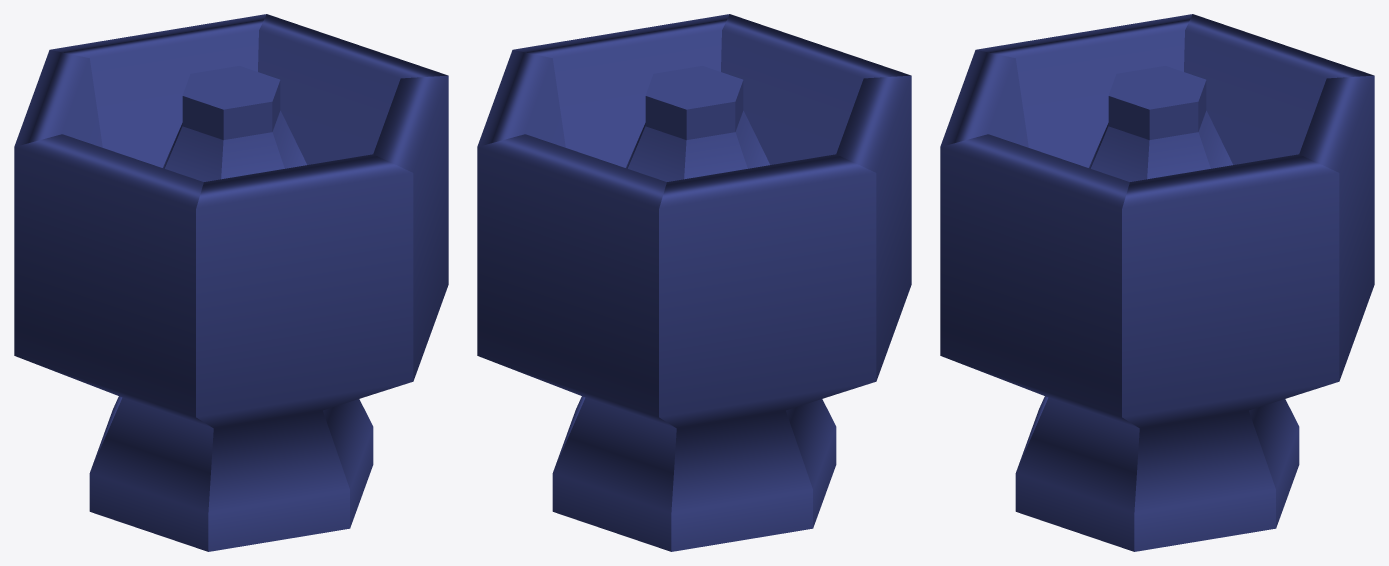
File: Fountain.fbx
3 renders of one model, left to right at view 1: azimuth 30°, elevation 25°; view 2: azimuth 150°, elevation 25°; view 3: azimuth 270°, elevation 25°, orthographic.
Parts seen in each view (by area): view 1: pCylinder45; view 2: pCylinder45; view 3: pCylinder45.
Boxes of the visible parts, x1,y1,x2,y2 form: pCylinder45: [14, 14, 448, 551]; pCylinder45: [477, 14, 911, 551]; pCylinder45: [940, 14, 1374, 551].
Bounding box in the file's own units: 5.26 × 5.04 × 4.95.
